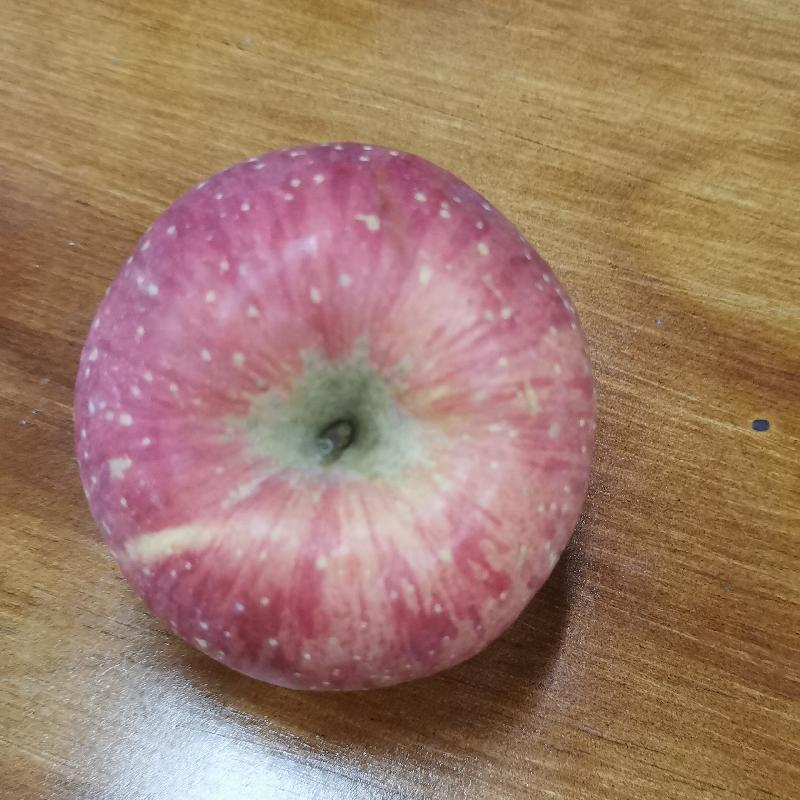apples: (75, 143, 596, 696)
